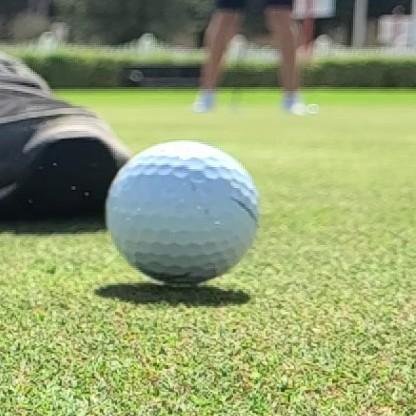golfball: (108, 141, 259, 283)
